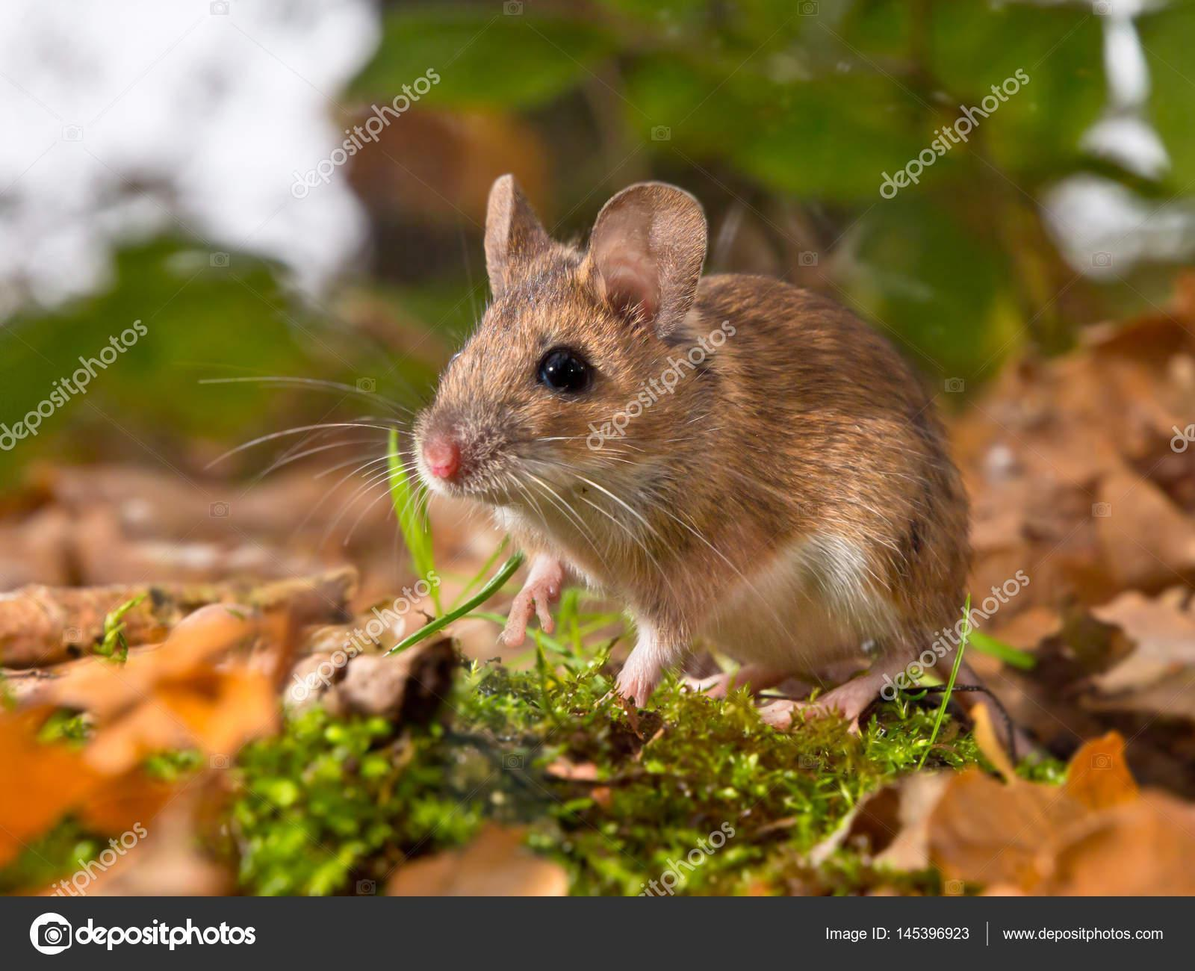rat: (414, 173, 975, 736)
